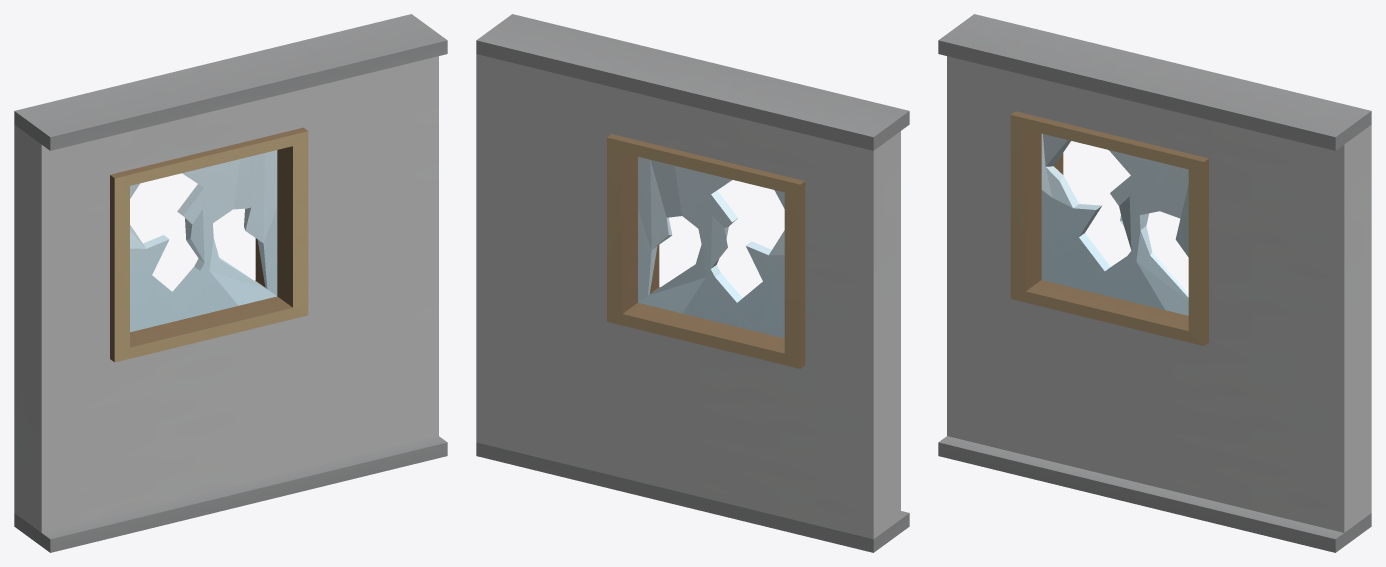
The model's file is wall_1_window_1.glb.
The picture shows the model from 3 angles, left to right: view 1: azimuth 30°, elevation 25°; view 2: azimuth 150°, elevation 25°; view 3: azimuth 330°, elevation 25°; orthographic projection.
Parts seen in each view (by area): view 1: wall_1_window_1; view 2: wall_1_window_1; view 3: wall_1_window_1.
Part boxes in pixels (x1=…): wall_1_window_1: x1=14, y1=14, x2=447, y2=552; wall_1_window_1: x1=476, y1=14, x2=909, y2=552; wall_1_window_1: x1=938, y1=14, x2=1371, y2=552.
Size of the model in its own units: 2 by 2 by 0.3568.
Materials: 1 (1 with a texture image).
